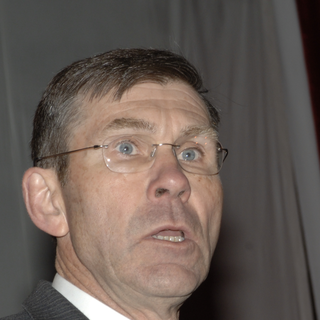eye: (112, 136, 143, 159), (176, 144, 206, 166)
